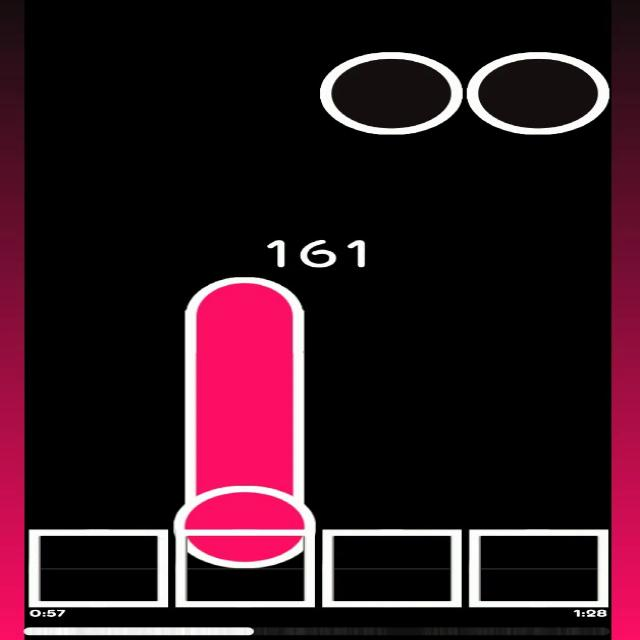end_hold: (184, 269, 305, 324)
note: (464, 48, 611, 136), (321, 48, 464, 135)
start_hold: (179, 463, 311, 565)
